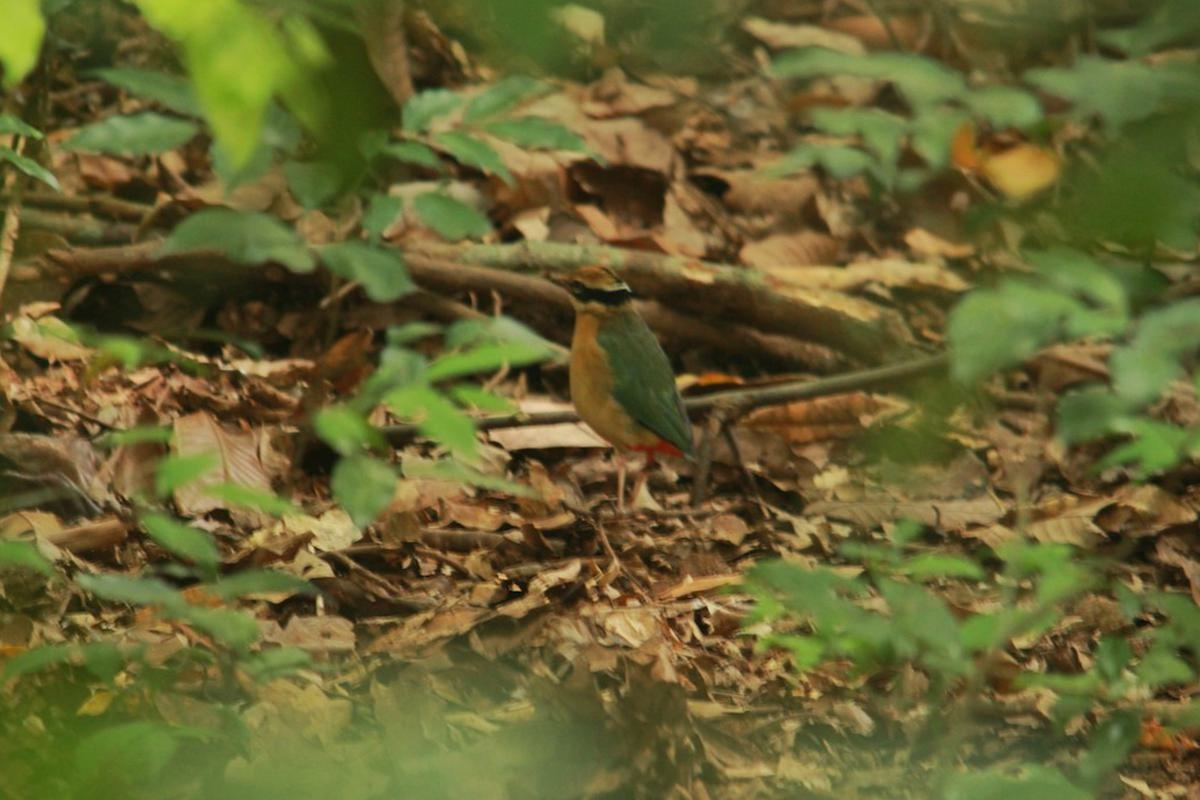pitta: (531, 258, 724, 506)
